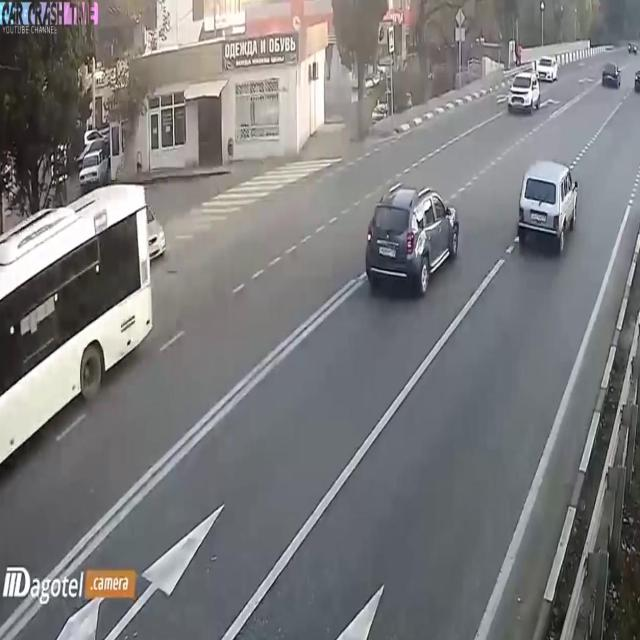non_accident: (504, 49, 560, 120), (67, 118, 113, 198)
